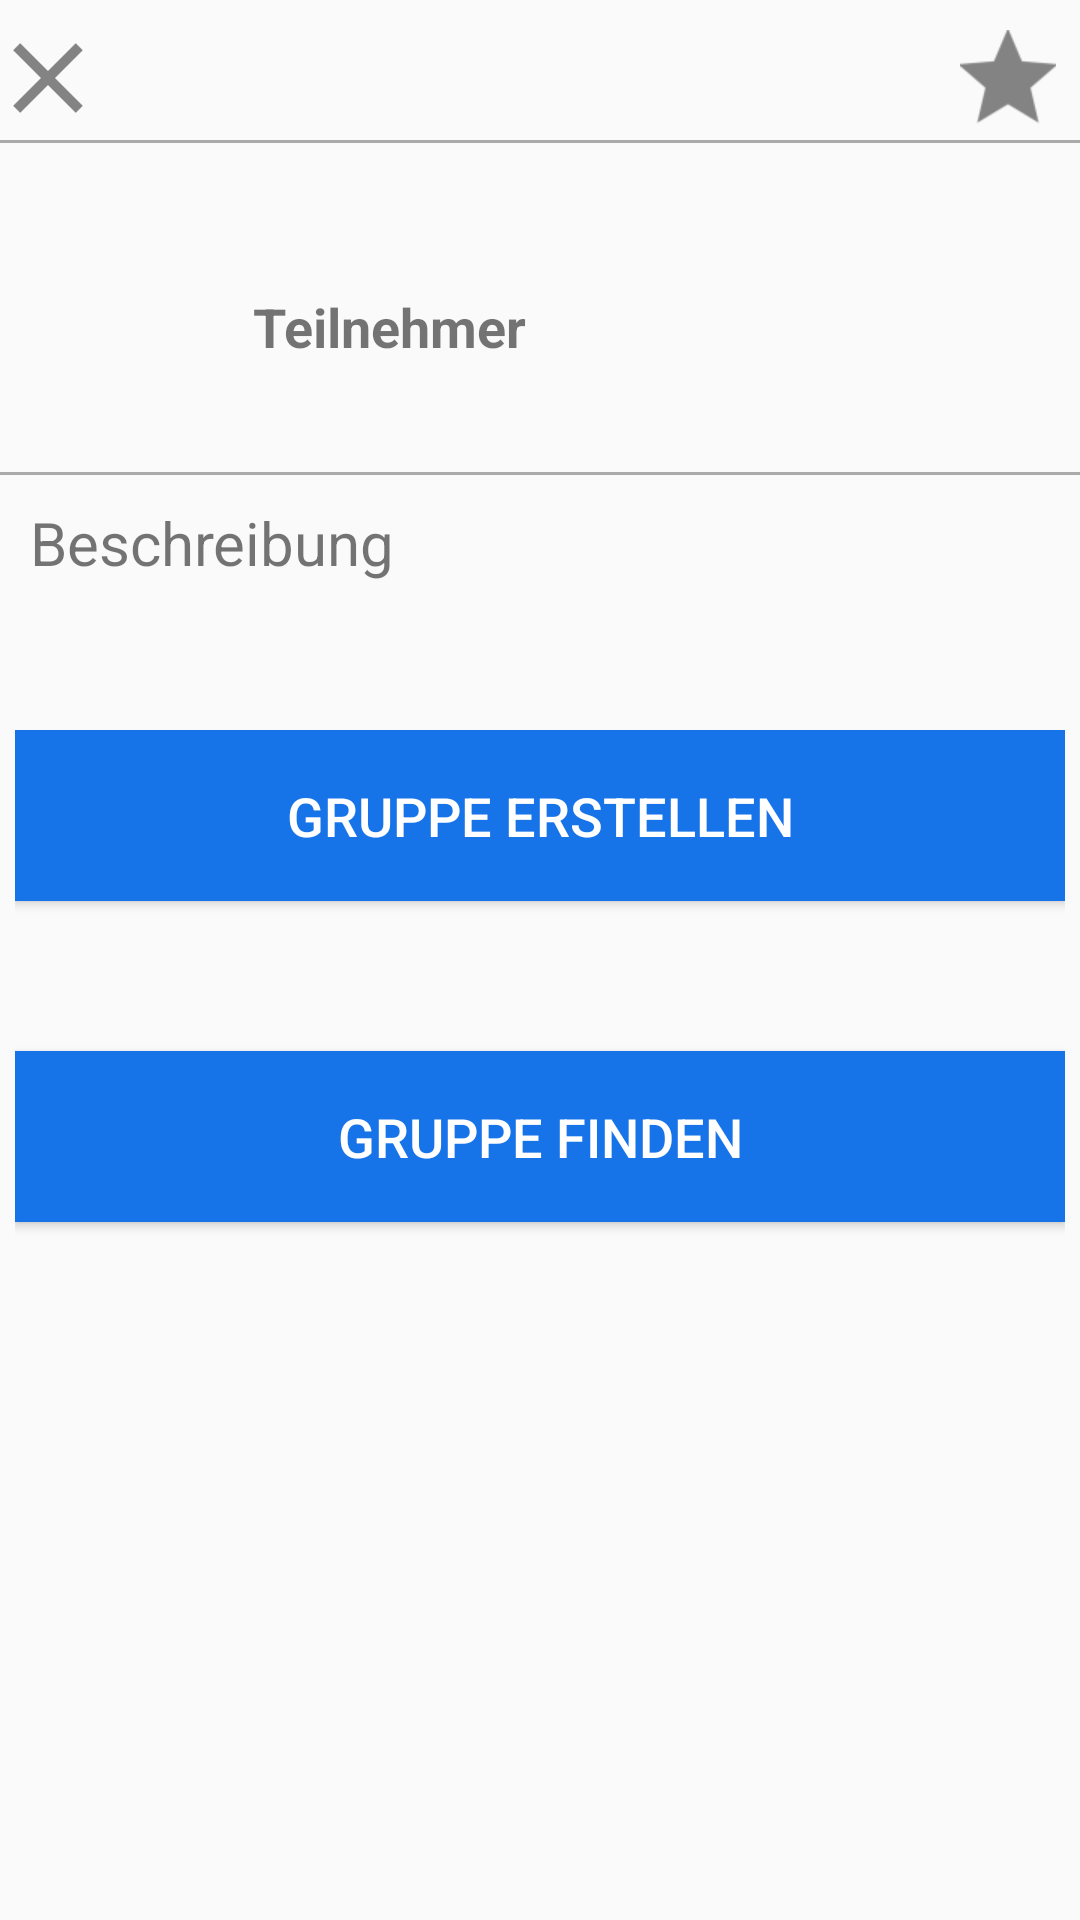

Locate icon controls on the screen. Image size 1080w x 1920h, boxes as (x1, y1, x2, y2).
close: (13, 43, 83, 113)
star full: (960, 30, 1056, 123)
